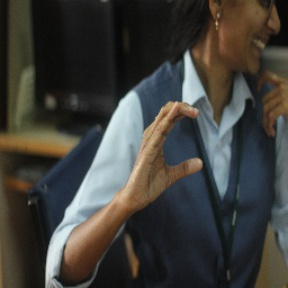C: (136, 94, 212, 186)
